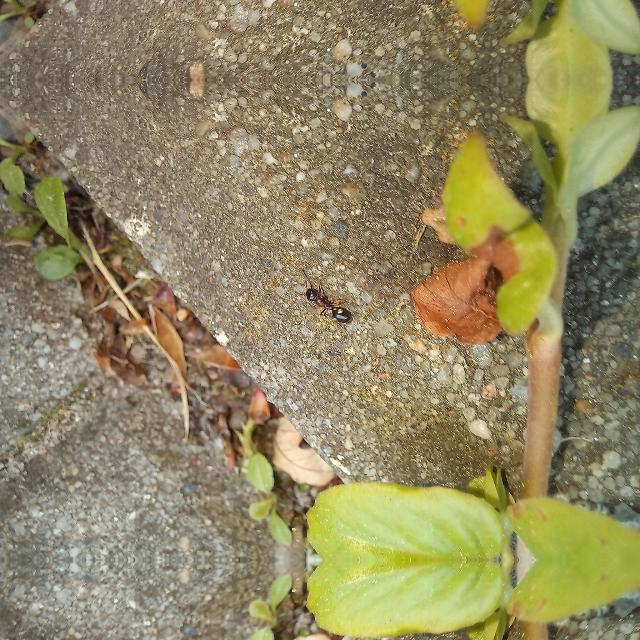Dolichoderus: (294, 277, 358, 325)
